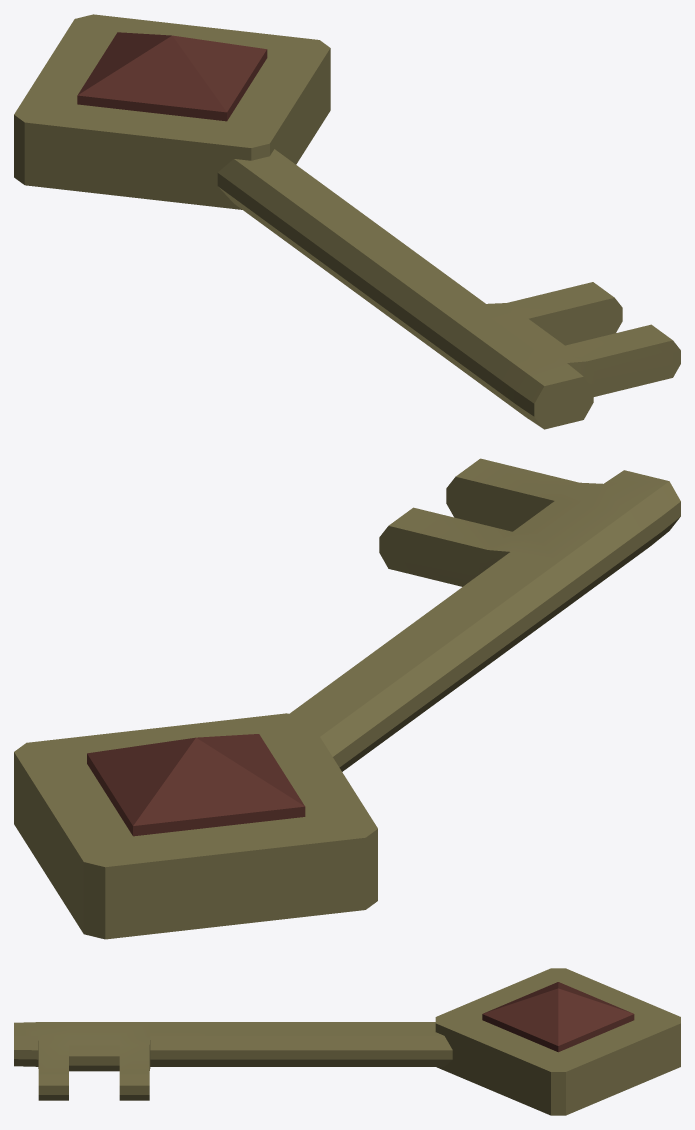
File: SM_Key.fbx
3 views of the same model, one above another, from view 1: azimuth 30°, elevation 25°; view 2: azimuth 150°, elevation 25°; view 3: azimuth 270°, elevation 25° (orthographic). The views are drawn at different scales.
Parts seen in each view (by area): view 1: SM_Key; view 2: SM_Key; view 3: SM_Key.
Part boxes in pixels (left/top/right/bottom): SM_Key: left=14, top=14, right=680, bottom=429; SM_Key: left=14, top=458, right=680, bottom=939; SM_Key: left=14, top=968, right=680, bottom=1115.
Bounding box in the file's own units: 1.88 × 5.13 × 0.6397.
